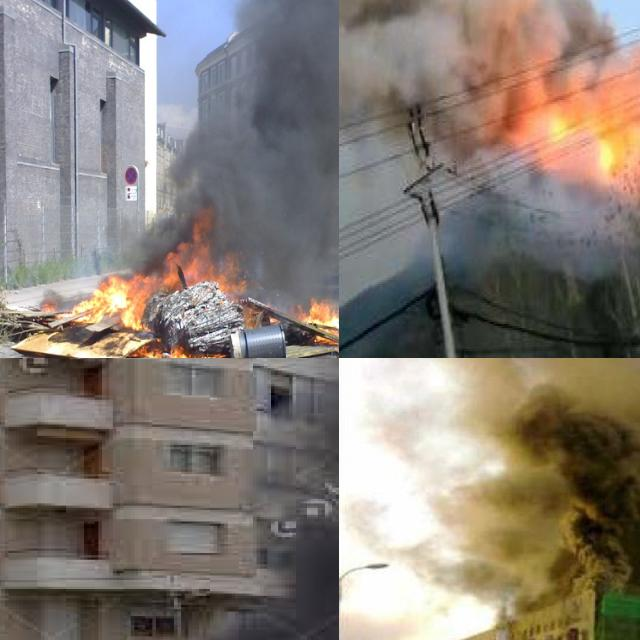fire: (58, 203, 339, 358), (514, 93, 640, 217)
smoke: (343, 358, 640, 608), (135, 0, 339, 300), (339, 0, 640, 185), (173, 358, 339, 640)
